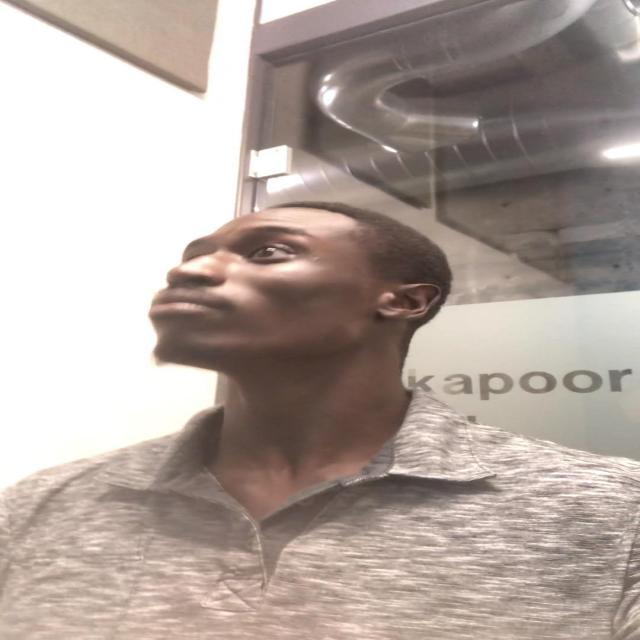face: (147, 214, 401, 370)
